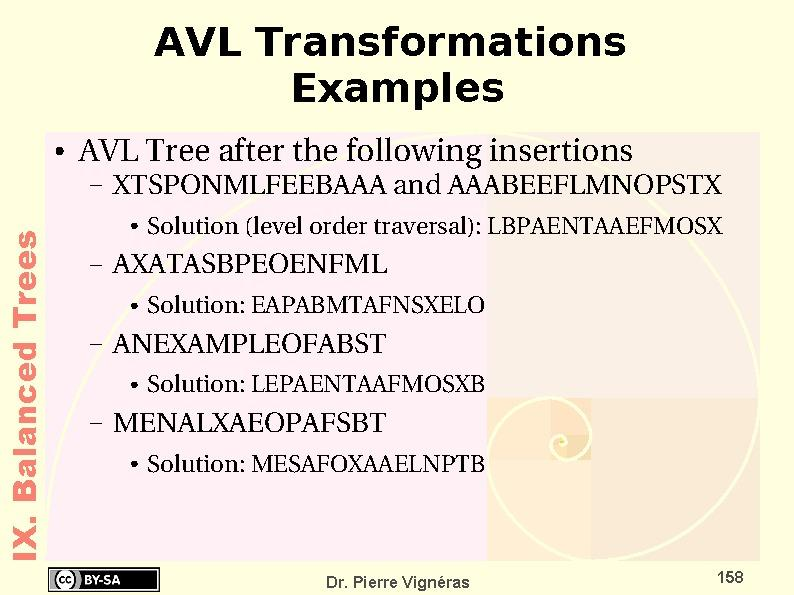paragraph: (46, 128, 756, 513)
title: (142, 6, 659, 118)
